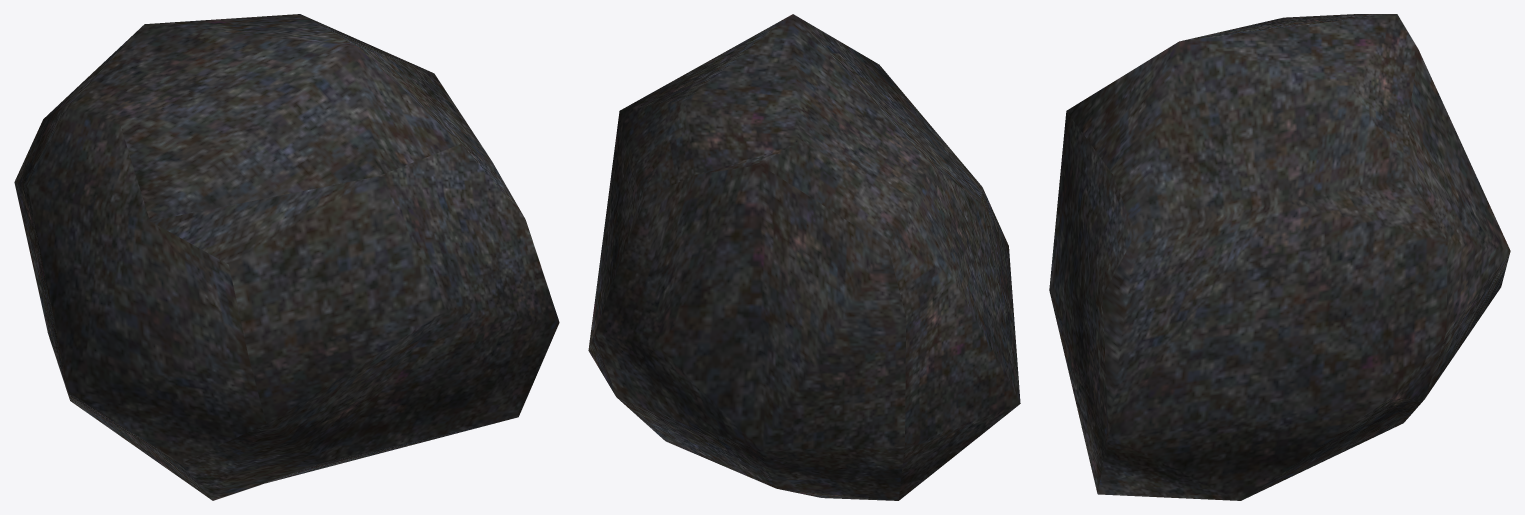
File: asteroid_metal_medium_s02_l3.fbx
The picture shows the model from 3 angles, left to right: view 1: azimuth 30°, elevation 25°; view 2: azimuth 150°, elevation 25°; view 3: azimuth 270°, elevation 25°; orthographic projection. The views are drawn at different scales.
Parts seen in each view (by area): view 1: mesh_node; view 2: mesh_node; view 3: mesh_node.
Part boxes in pixels (x1=…): mesh_node: x1=14, y1=14, x2=559, y2=500; mesh_node: x1=588, y1=14, x2=1020, y2=500; mesh_node: x1=1049, y1=14, x2=1510, y2=500.
Size of the model in its own units: 73.28 by 73.1 by 65.38.
